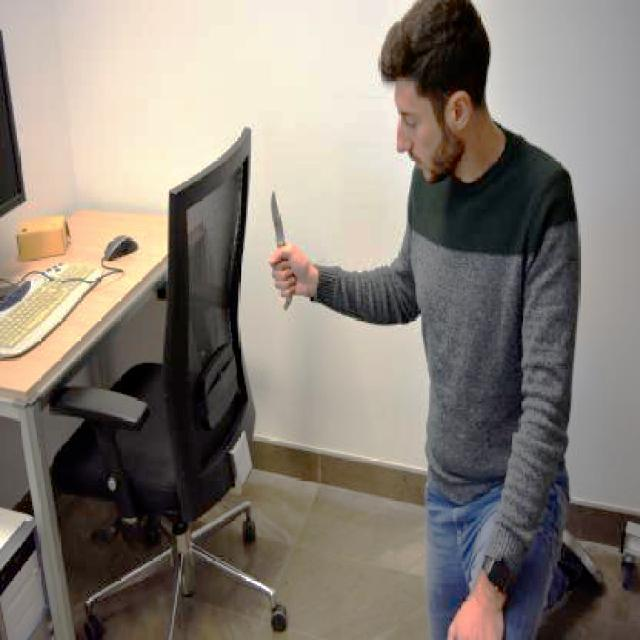Knife: (263, 188, 295, 280)
